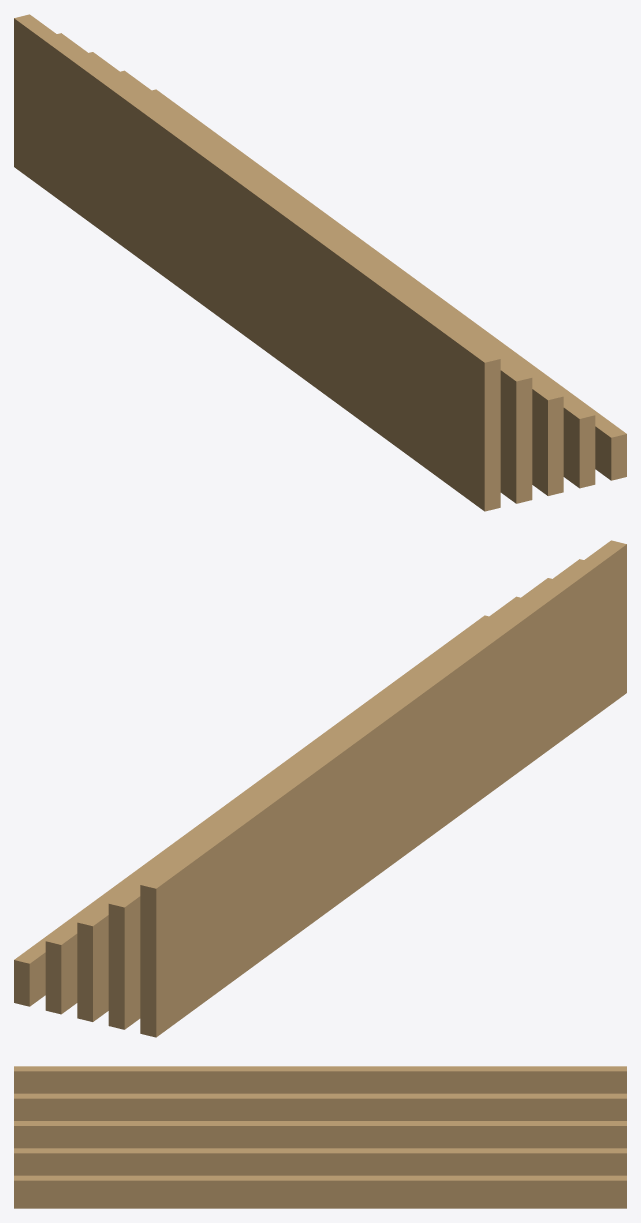
Rendered from StandsE_Wall.fbx.
The picture shows the model from 3 angles, top to bottom: view 1: azimuth 30°, elevation 25°; view 2: azimuth 150°, elevation 25°; view 3: azimuth 270°, elevation 25°; orthographic projection. The views are drawn at different scales.
Visible parts, largest first — view 1: TierE0.001; view 2: TierE0.001; view 3: TierE0.001.
Part boxes in pixels (<box>): TierE0.001: <box>14,14,626,511</box>; TierE0.001: <box>14,540,626,1037</box>; TierE0.001: <box>14,1066,626,1208</box>.
Size of the model in its own units: 4500 by 4500 by 25800.
